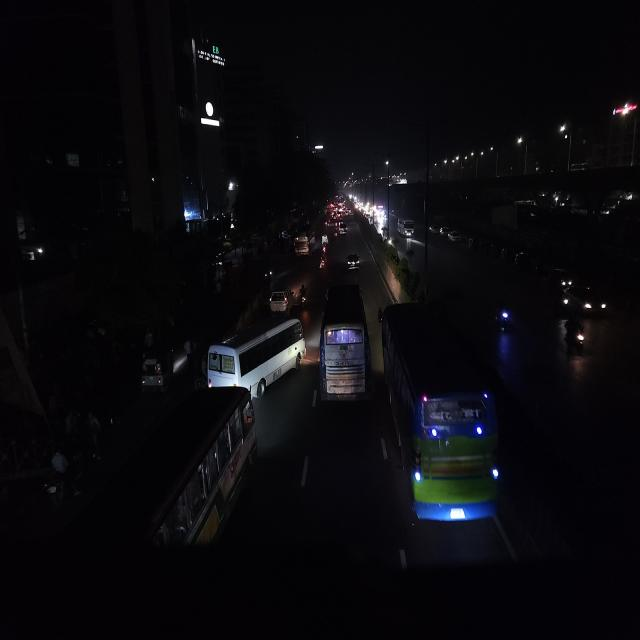bus: (380, 301, 502, 537), (136, 389, 258, 571), (204, 308, 306, 399), (318, 276, 372, 417), (294, 226, 314, 257), (396, 218, 416, 239)
car: (139, 336, 191, 400), (565, 276, 609, 318), (268, 283, 292, 314), (345, 252, 362, 271), (446, 226, 459, 245), (336, 221, 347, 236), (438, 224, 446, 240), (332, 204, 343, 215), (328, 212, 336, 225)
motorcycle: (561, 312, 588, 357), (494, 298, 514, 336), (297, 284, 309, 309), (318, 252, 328, 273), (321, 232, 329, 250)
